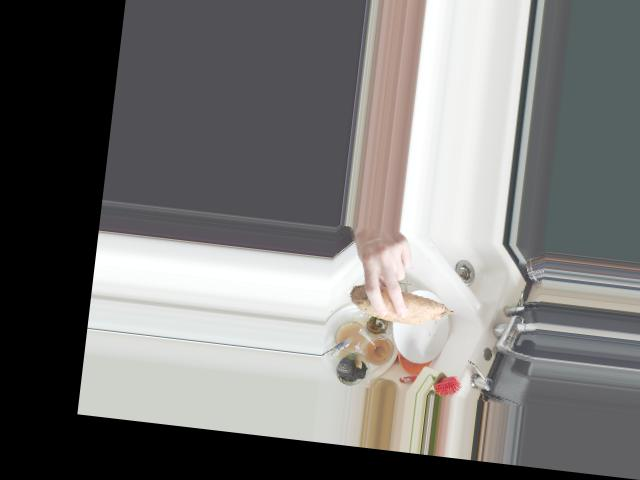sweet_potato: (344, 277, 460, 328)
